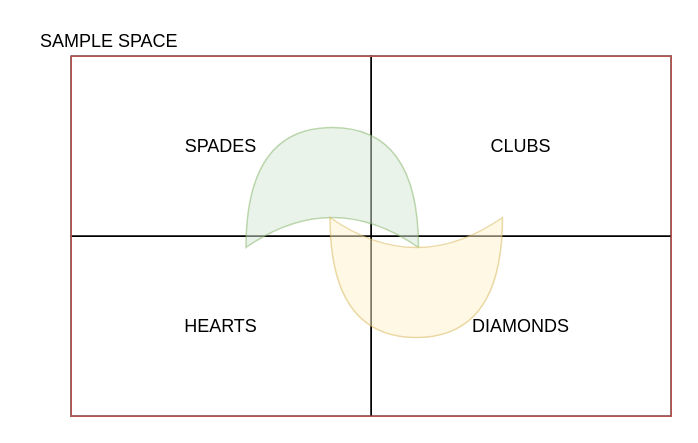
Some shapes in this 698 by 443 pixel diagram are drawn without their labels. Each missing label, with the centre of its shape:
"ACE" goes at point (331, 187).
"VALUE OF 10" goes at point (415, 277).
